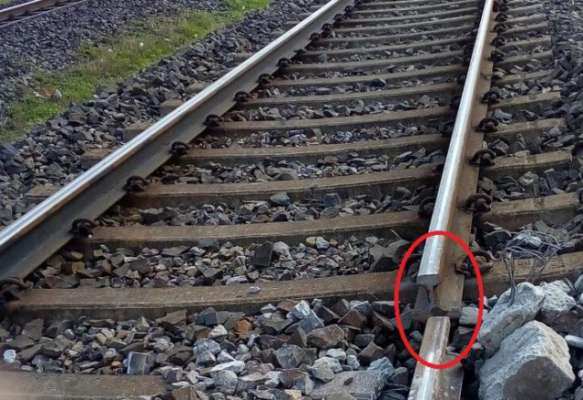crack: (394, 245, 489, 362)
track: (123, 52, 259, 172)
